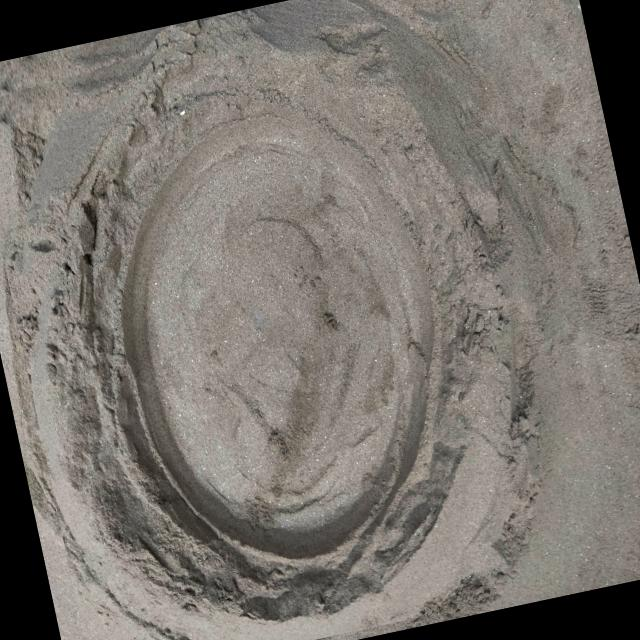C40: (25, 0, 526, 640)
